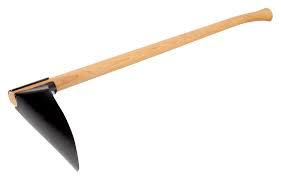HOUE: (0, 4, 281, 180)
